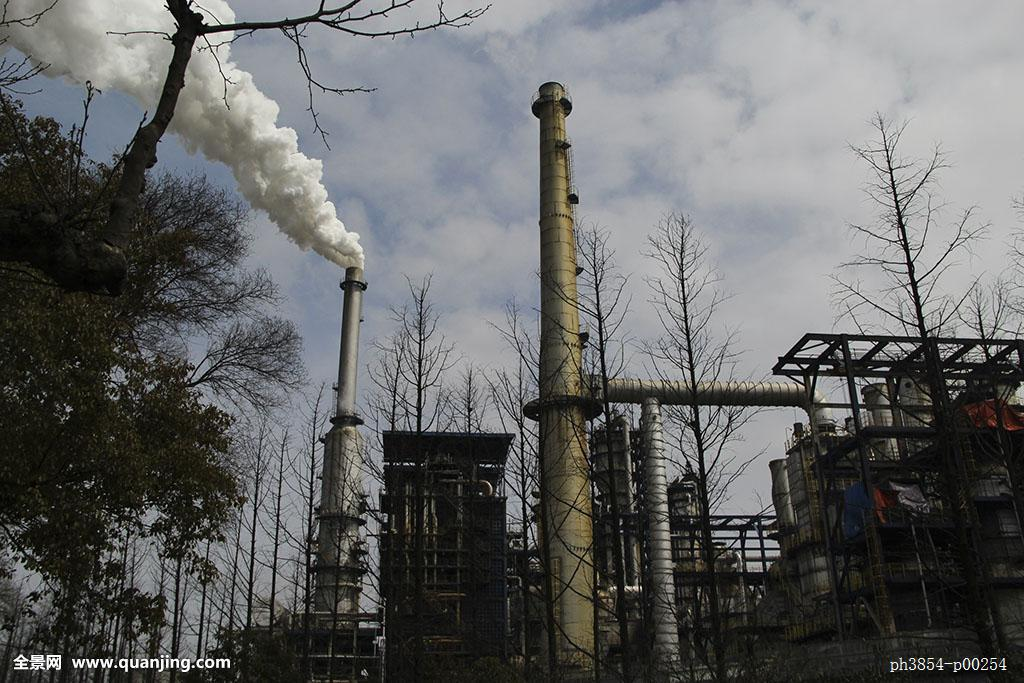dust: (197, 75, 372, 277)
